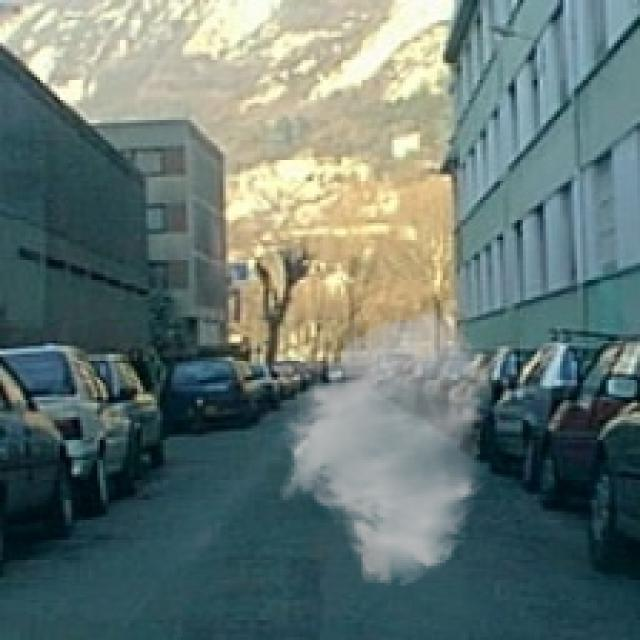Smoke: (277, 306, 494, 588)
